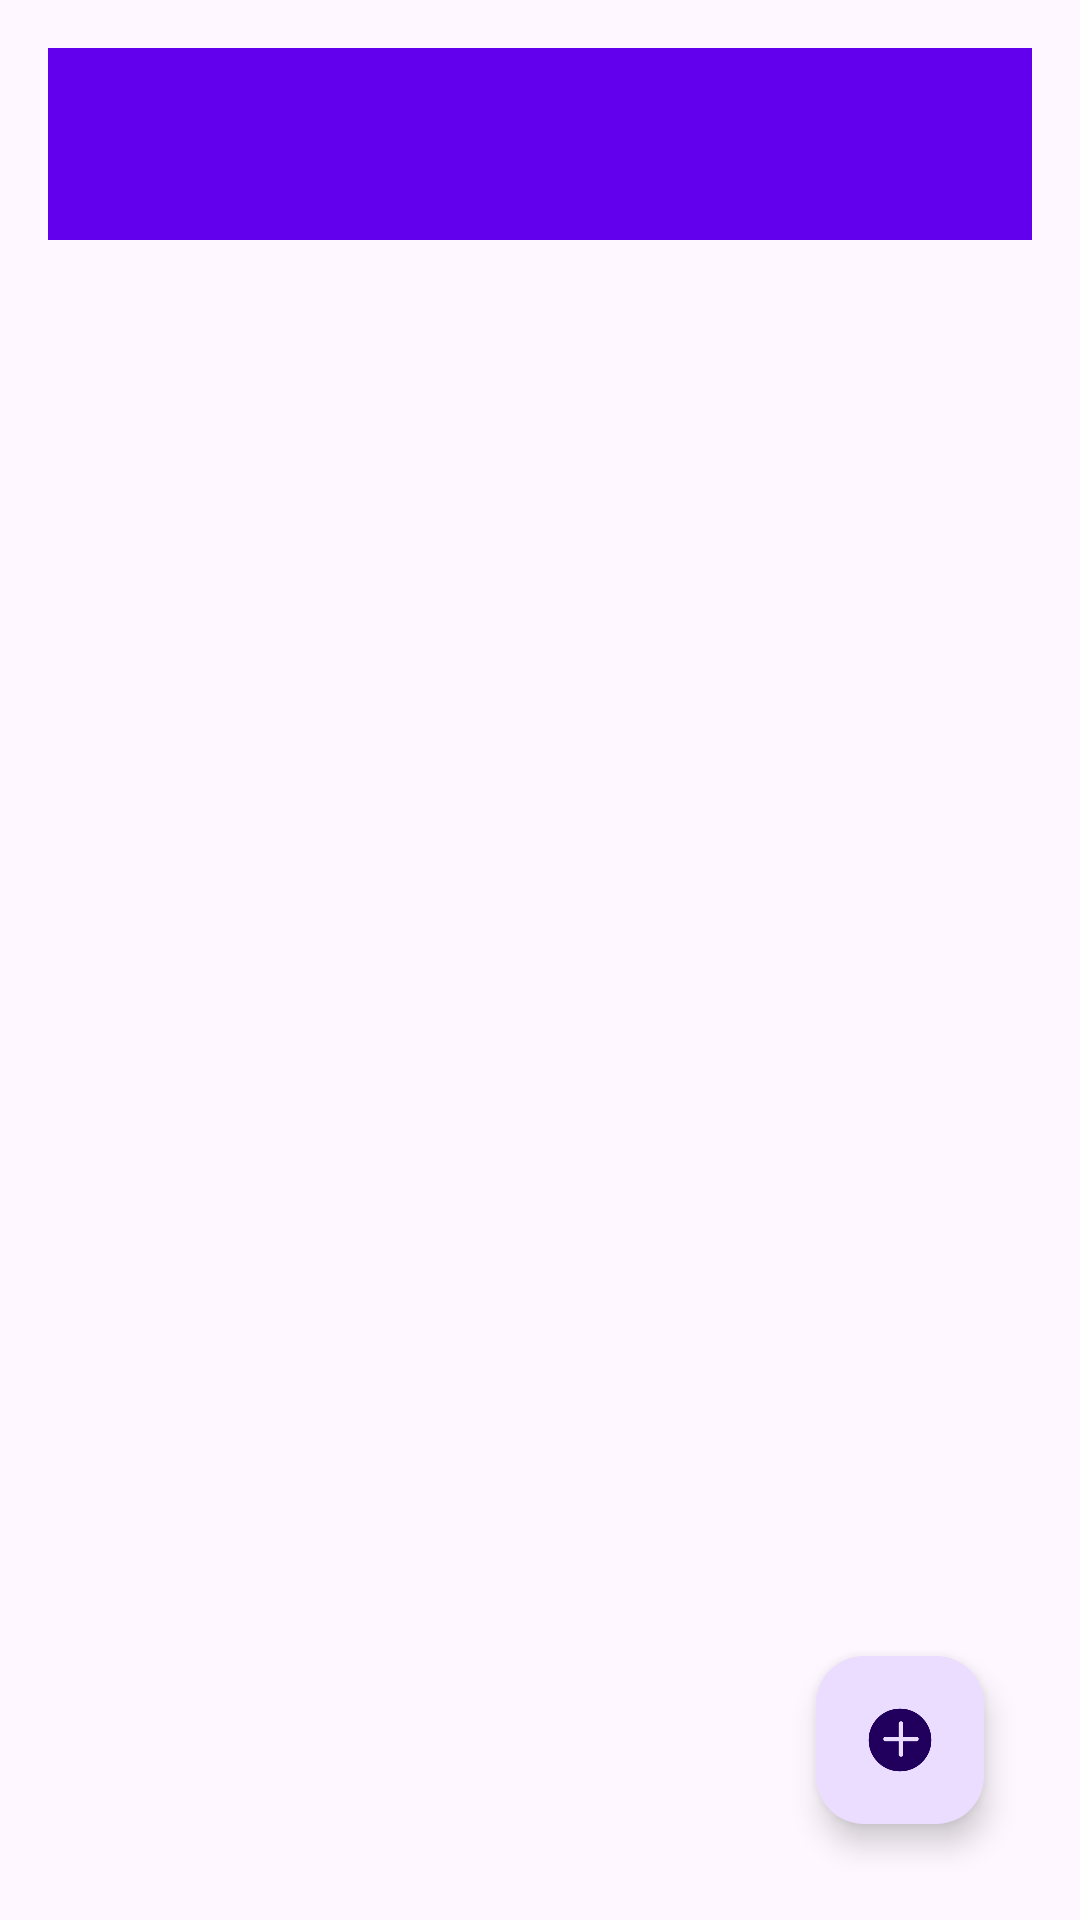

Where icons sit on this 1080×1920 app screen, as (x1, y1, x2, y2):
新增分类: (816, 1656, 984, 1824)
